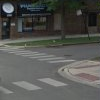crosswalk: (0, 47, 76, 63), (0, 77, 68, 94)
